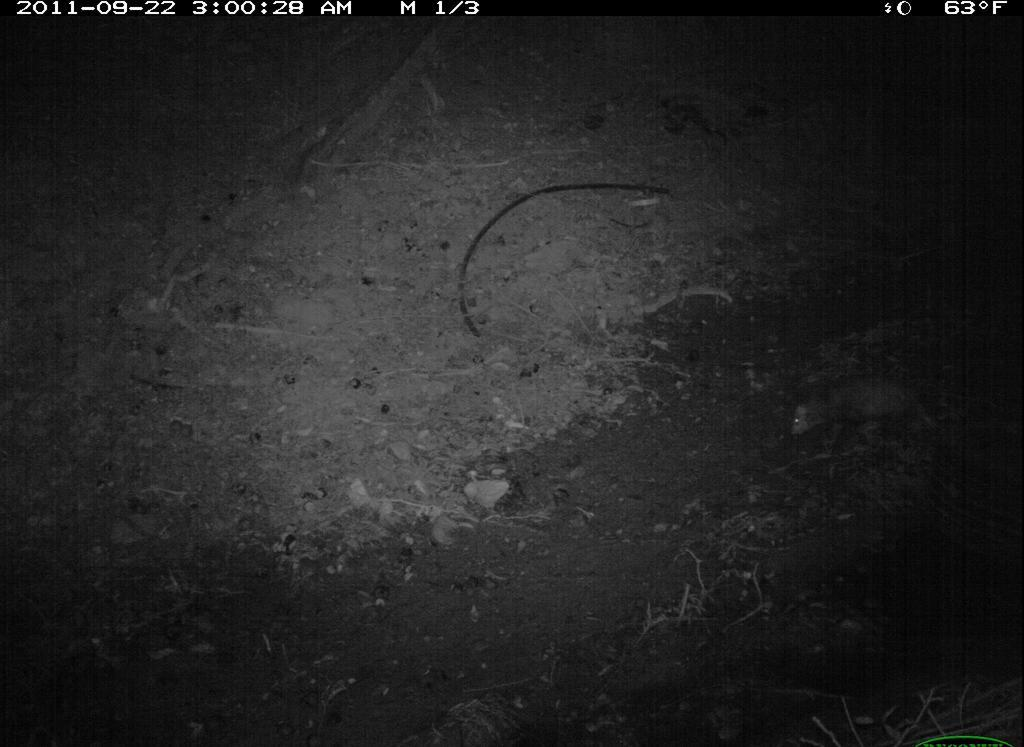opossum: (763, 365, 953, 469)
